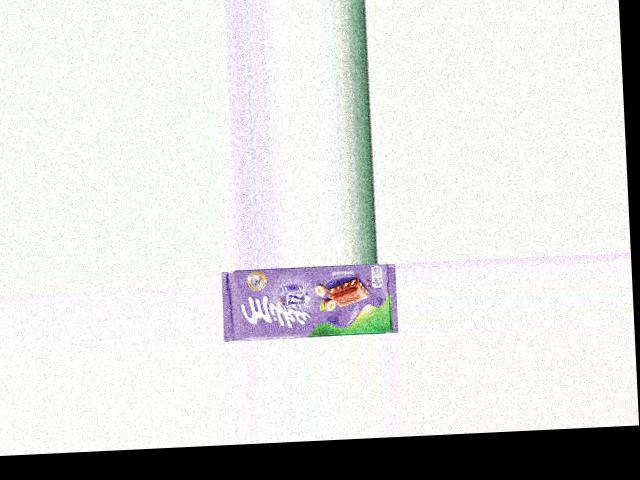chocolate: (220, 262, 399, 341)
